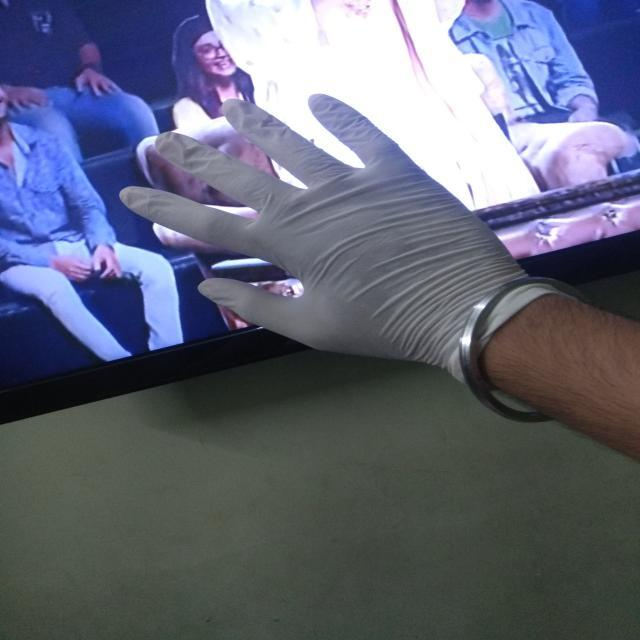glove_hand: (116, 86, 565, 396)
